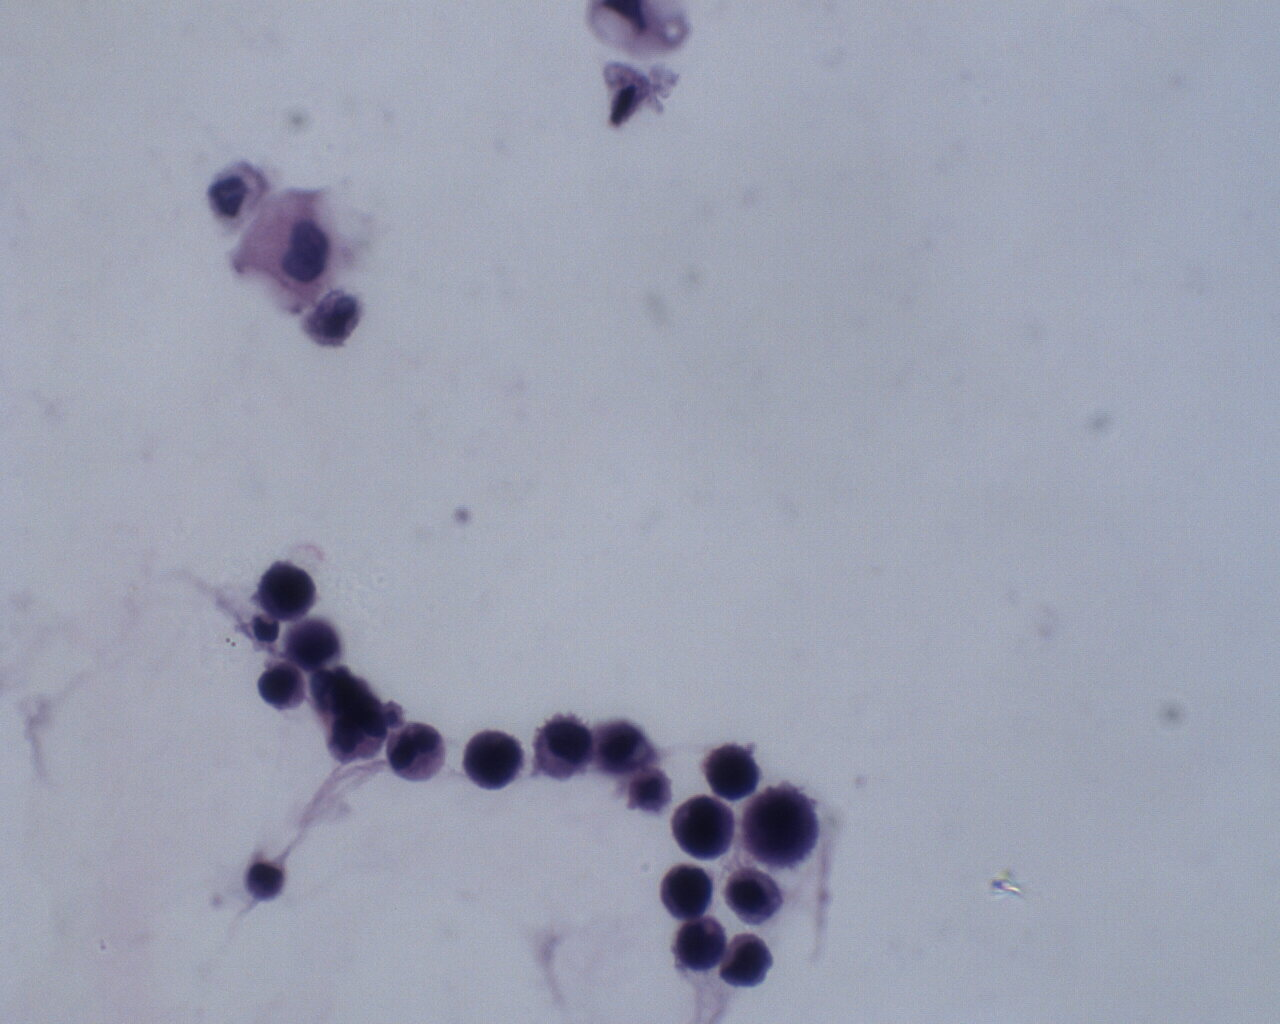ab: (741, 779, 823, 871), (530, 711, 597, 779), (669, 795, 739, 861), (387, 716, 451, 785), (590, 708, 655, 777), (462, 727, 527, 794), (255, 559, 318, 623), (703, 741, 765, 801), (673, 914, 731, 974), (720, 929, 775, 990), (659, 863, 717, 921), (254, 660, 305, 715)
